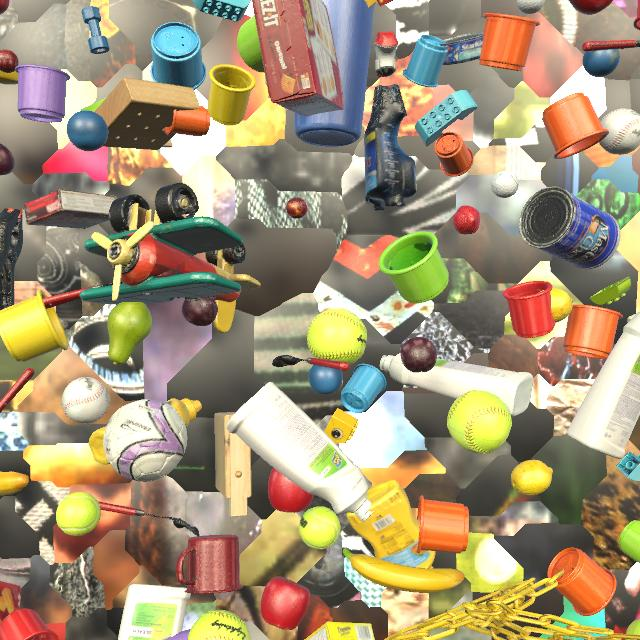ycb_002_master_chef_can: (519, 186, 620, 269)
ycb_003_cracker_box: (252, 0, 344, 116), (0, 581, 21, 623), (377, 0, 393, 6)
ycb_004_sugar_box: (304, 621, 375, 640)
ycb_006_mustard_bottle: (346, 480, 436, 569), (89, 398, 202, 465)
ycb_007_tuna_fish_can: (439, 31, 484, 65)
ycb_008_pudding_box: (24, 189, 117, 229)
ycb_011_banana: (343, 548, 464, 593), (0, 472, 29, 495), (0, 71, 18, 85)
ycb_012_strawberry: (453, 205, 480, 234)
ycb_013_apple: (260, 576, 310, 630), (268, 468, 314, 513), (569, 0, 613, 15), (0, 0, 10, 14)
ycb_014_lemon: (511, 460, 553, 496), (539, 288, 573, 322)
ycb_016_pear: (107, 302, 152, 365)
ycb_018_plum: (400, 337, 437, 373), (182, 297, 218, 326), (0, 143, 15, 175)
